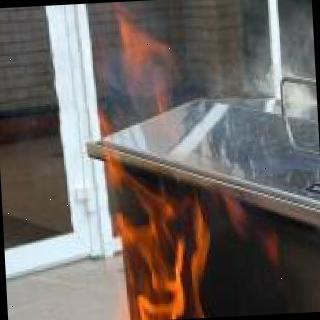fire: (99, 203, 306, 320), (226, 2, 319, 134)
